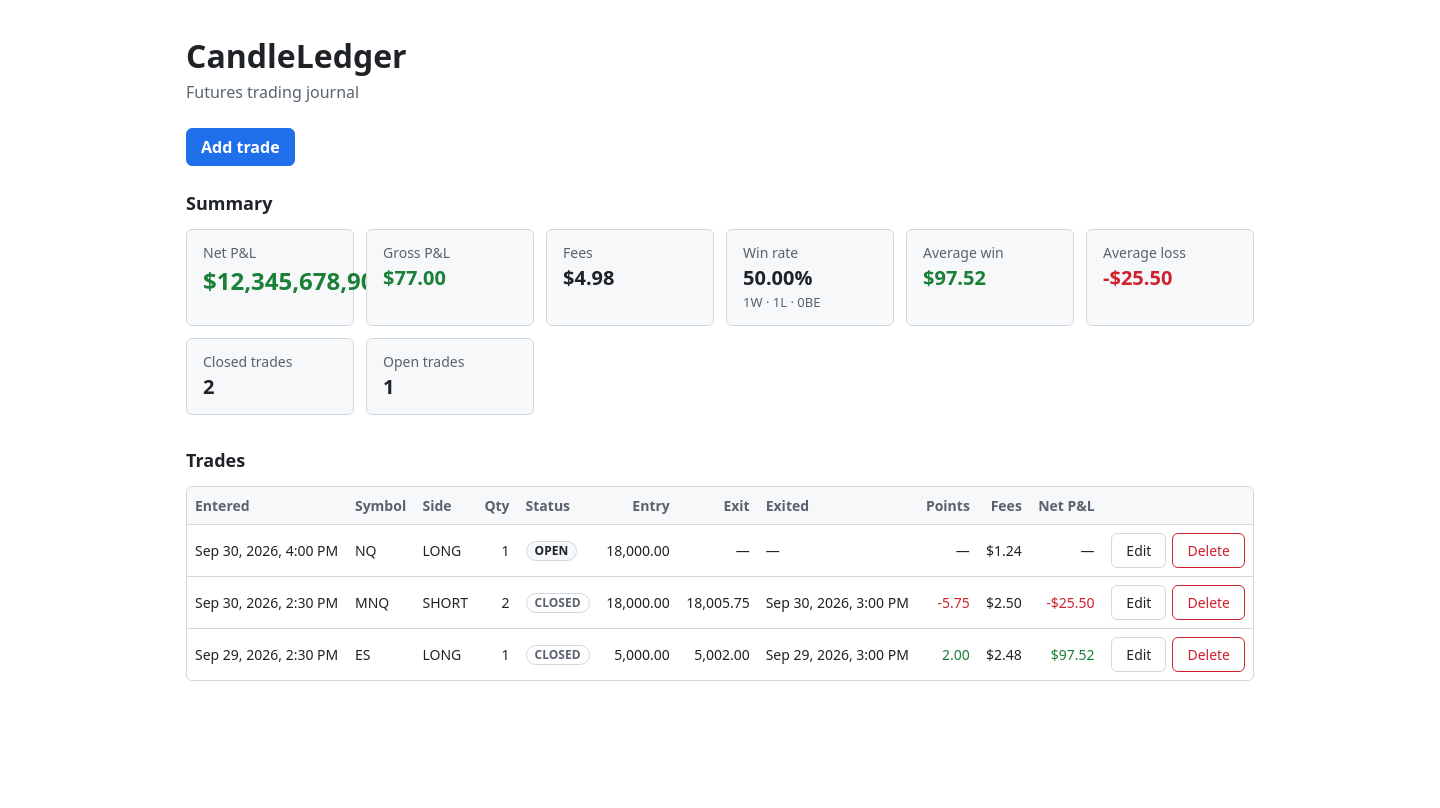
Edit trade › opens a form filled with the trade, including its exit
This screenshot has width=1440, height=808.
Expected: the table is shown, [187, 486, 1253, 680]
Click the button with aria-label "Edit MNQ SHORT".
click(1139, 602)  # box [1111, 584, 1166, 620]
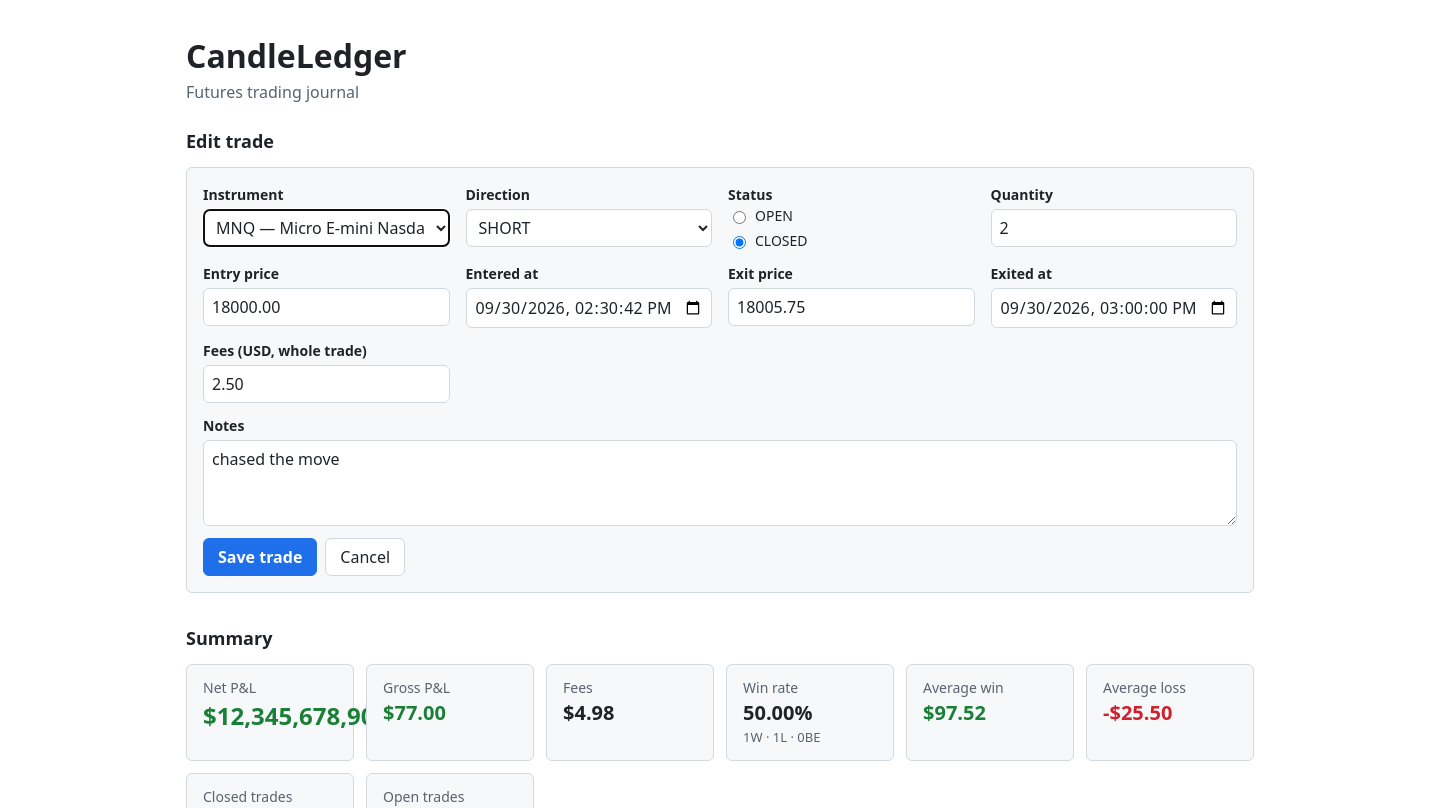
Expected: the dropdown labelled "Instrument" shows "MNQ — Micro E-mini Nasdaq-100", [203, 209, 450, 247]
Expected: the dropdown labelled "Direction" shows "SHORT", [466, 209, 712, 247]
Expected: the radio button labelled "CLOSED" is checked, [733, 236, 746, 248]
